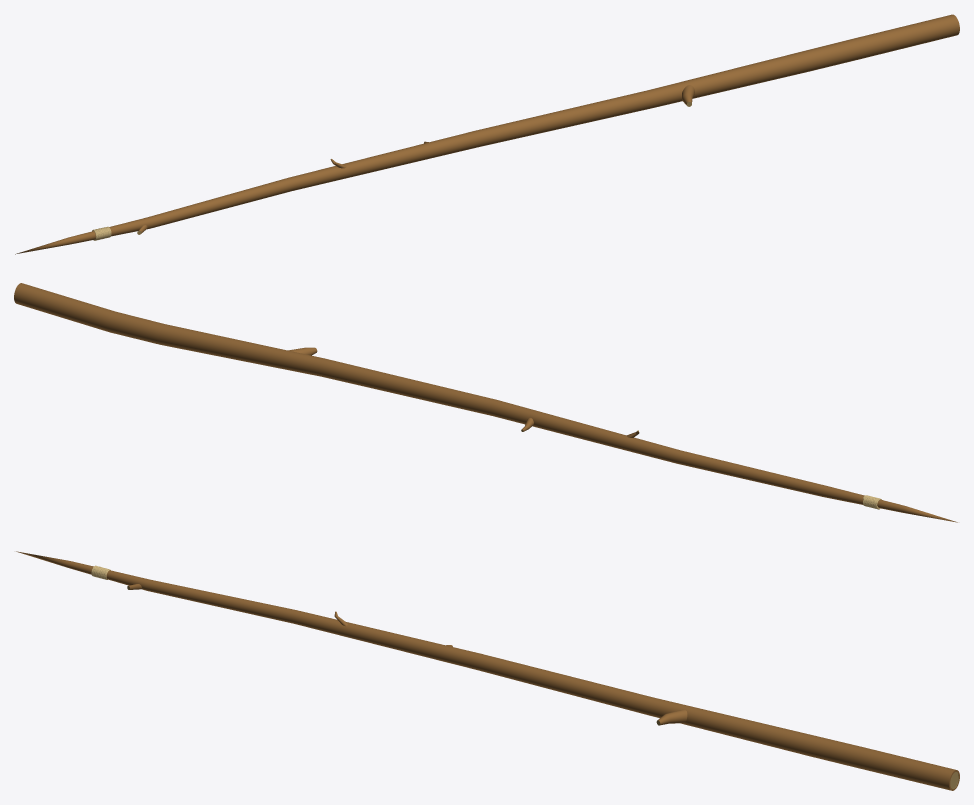
The model's file is wedka1.fbx.
The picture shows the model from 3 angles, top to bottom: view 1: azimuth 30°, elevation 25°; view 2: azimuth 150°, elevation 25°; view 3: azimuth 330°, elevation 25°; orthographic projection.
Visible parts, largest first — view 1: Cylinder.006; view 2: Cylinder.006; view 3: Cylinder.006.
Part boxes in pixels (x1,y1,x2,y2): Cylinder.006: (15,14,959,254); Cylinder.006: (14,283,957,522); Cylinder.006: (16,551,959,790).
Bounding box in the file's own units: 25083 × 734 × 1350.
